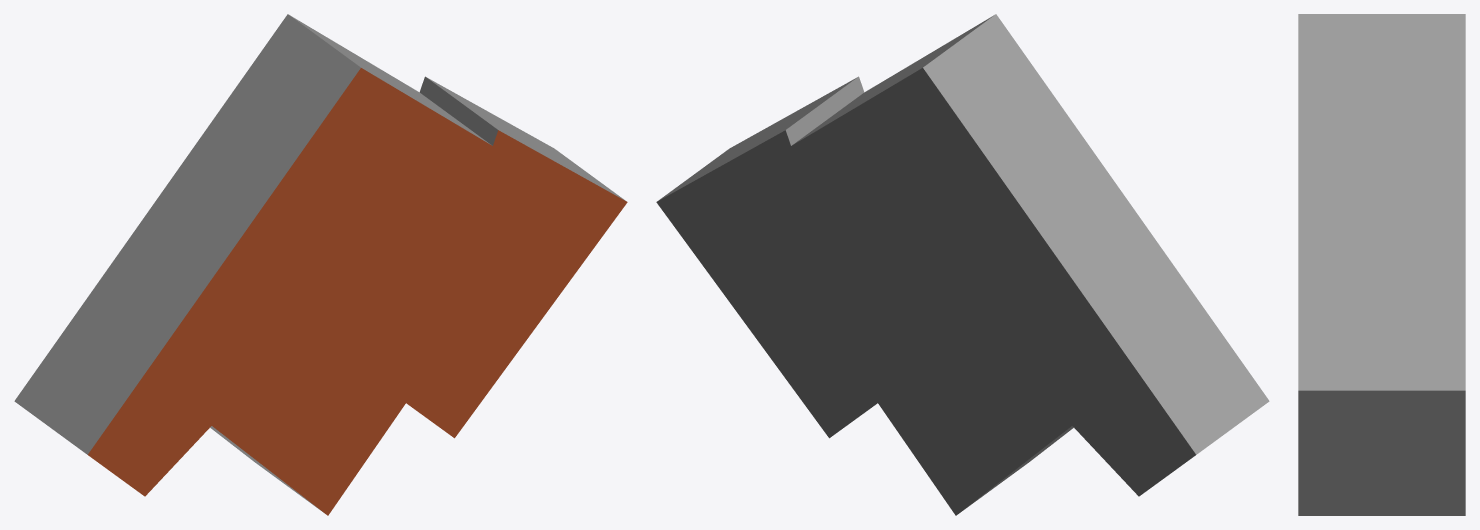
Rendered from construction_1385_assumed_A_Casa_h6m.obj.
3 renders of one model, left to right at view 1: azimuth 30°, elevation 25°; view 2: azimuth 150°, elevation 25°; view 3: azimuth 270°, elevation 25°, orthographic. The views are drawn at different scales.
Visible parts, largest first — view 1: construction_1385_assumed_A_Casa; view 2: construction_1385_assumed_A_Casa; view 3: construction_1385_assumed_A_Casa.
Part boxes in pixels (bbox=[...]): construction_1385_assumed_A_Casa: bbox=[14, 14, 627, 515]; construction_1385_assumed_A_Casa: bbox=[656, 14, 1269, 515]; construction_1385_assumed_A_Casa: bbox=[1298, 14, 1465, 515].
Bounding box in the file's own units: 25.51 × 19.87 × 6.
